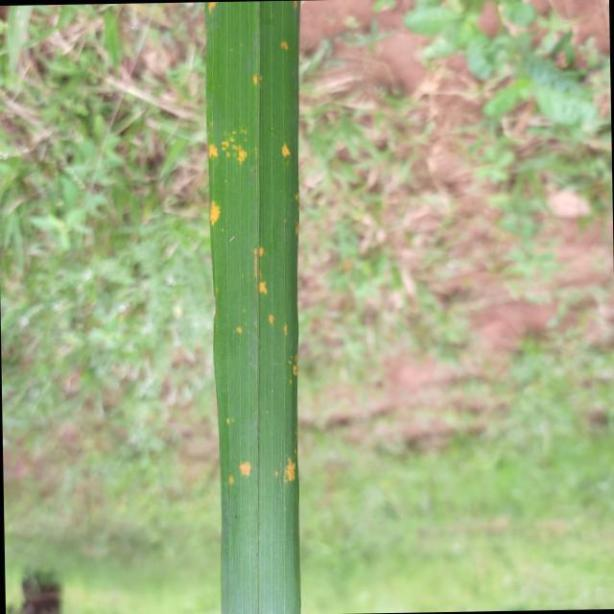Kalium: (202, 0, 302, 614)
